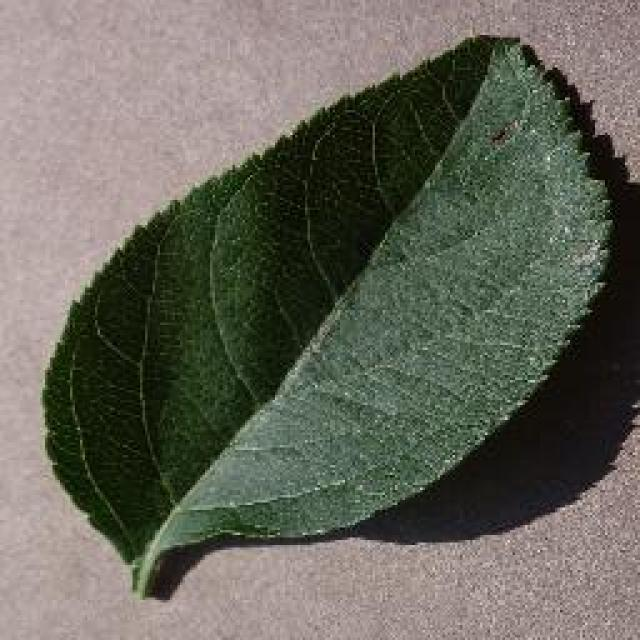apple healthy: (40, 30, 628, 600)
